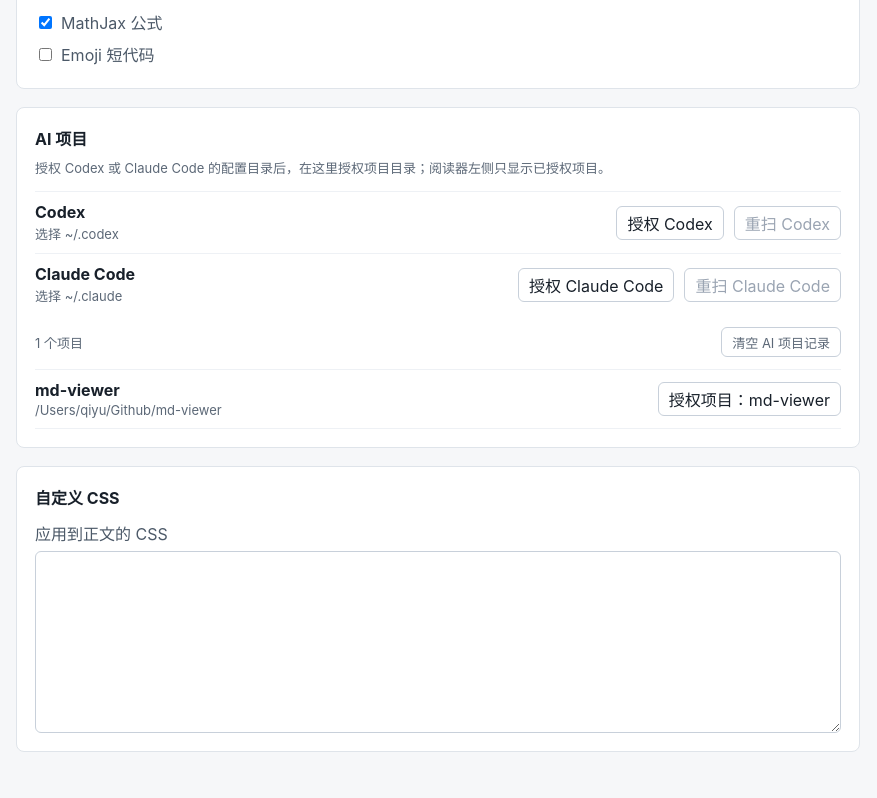
Test: options App › authorizes pending AI projects from settings
(page scrolled)
Expected: the text "md-viewer" is shown, [35, 380, 120, 400]
Click the button "授权项目：md-viewer".
click(749, 399)  # box [658, 382, 841, 416]
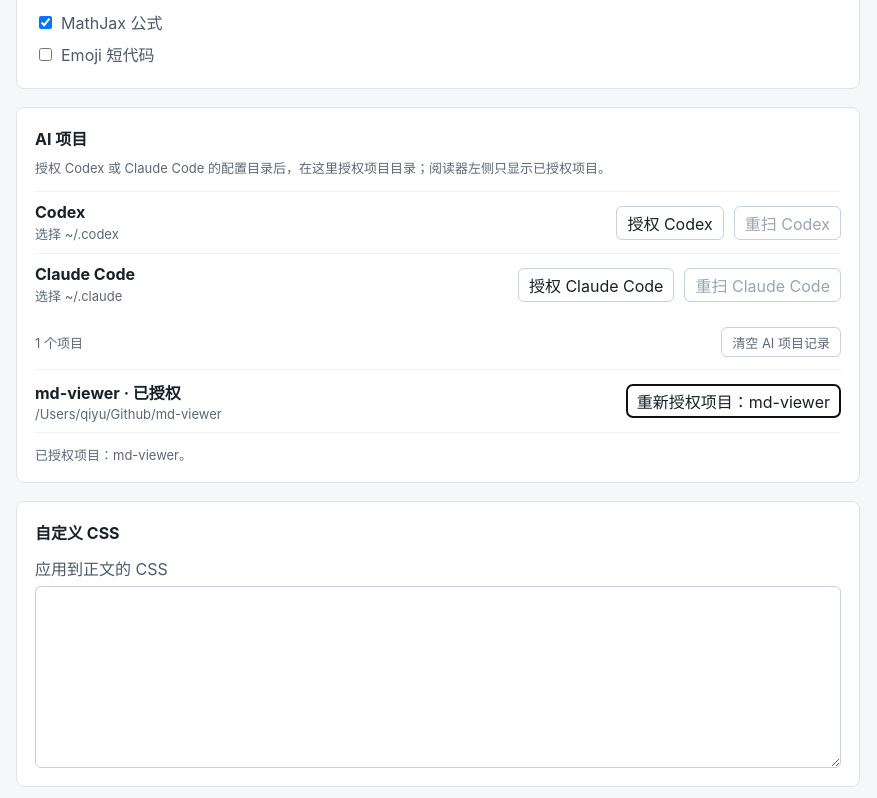
Expected: the text "已授权项目：md-viewer。" is shown, [35, 447, 192, 463]
Expected: the text "md-viewer · 已授权" is shown, [35, 380, 181, 404]
